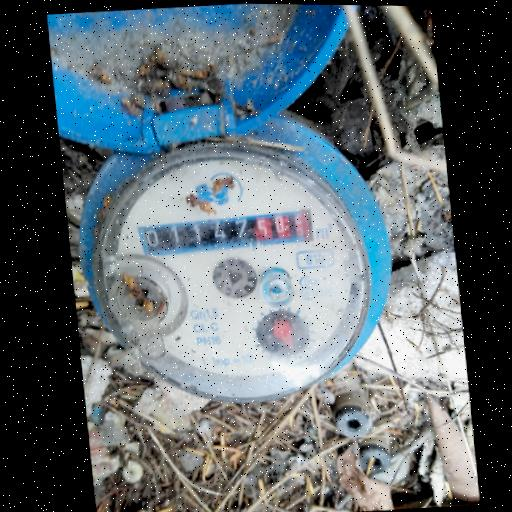0: (142, 226, 169, 253), (270, 214, 296, 241)
1: (164, 223, 191, 252), (185, 221, 212, 250)
2: (291, 213, 313, 238)
4: (207, 219, 235, 247)
5: (250, 216, 275, 242)
7: (229, 217, 257, 245)
border_water_meter_number: (136, 206, 316, 260)
